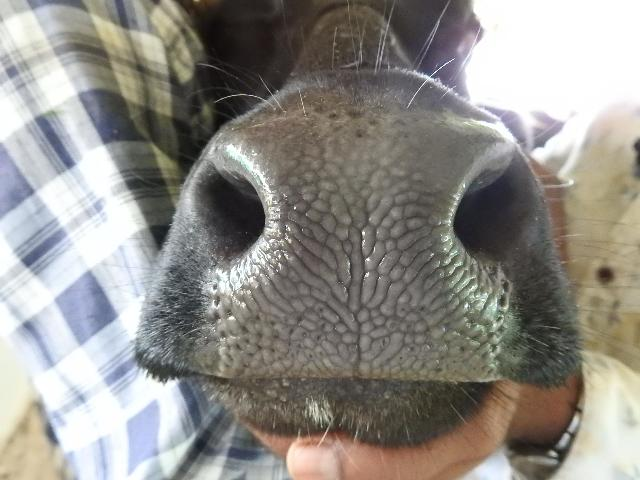Muzzle: (240, 124, 474, 374)
